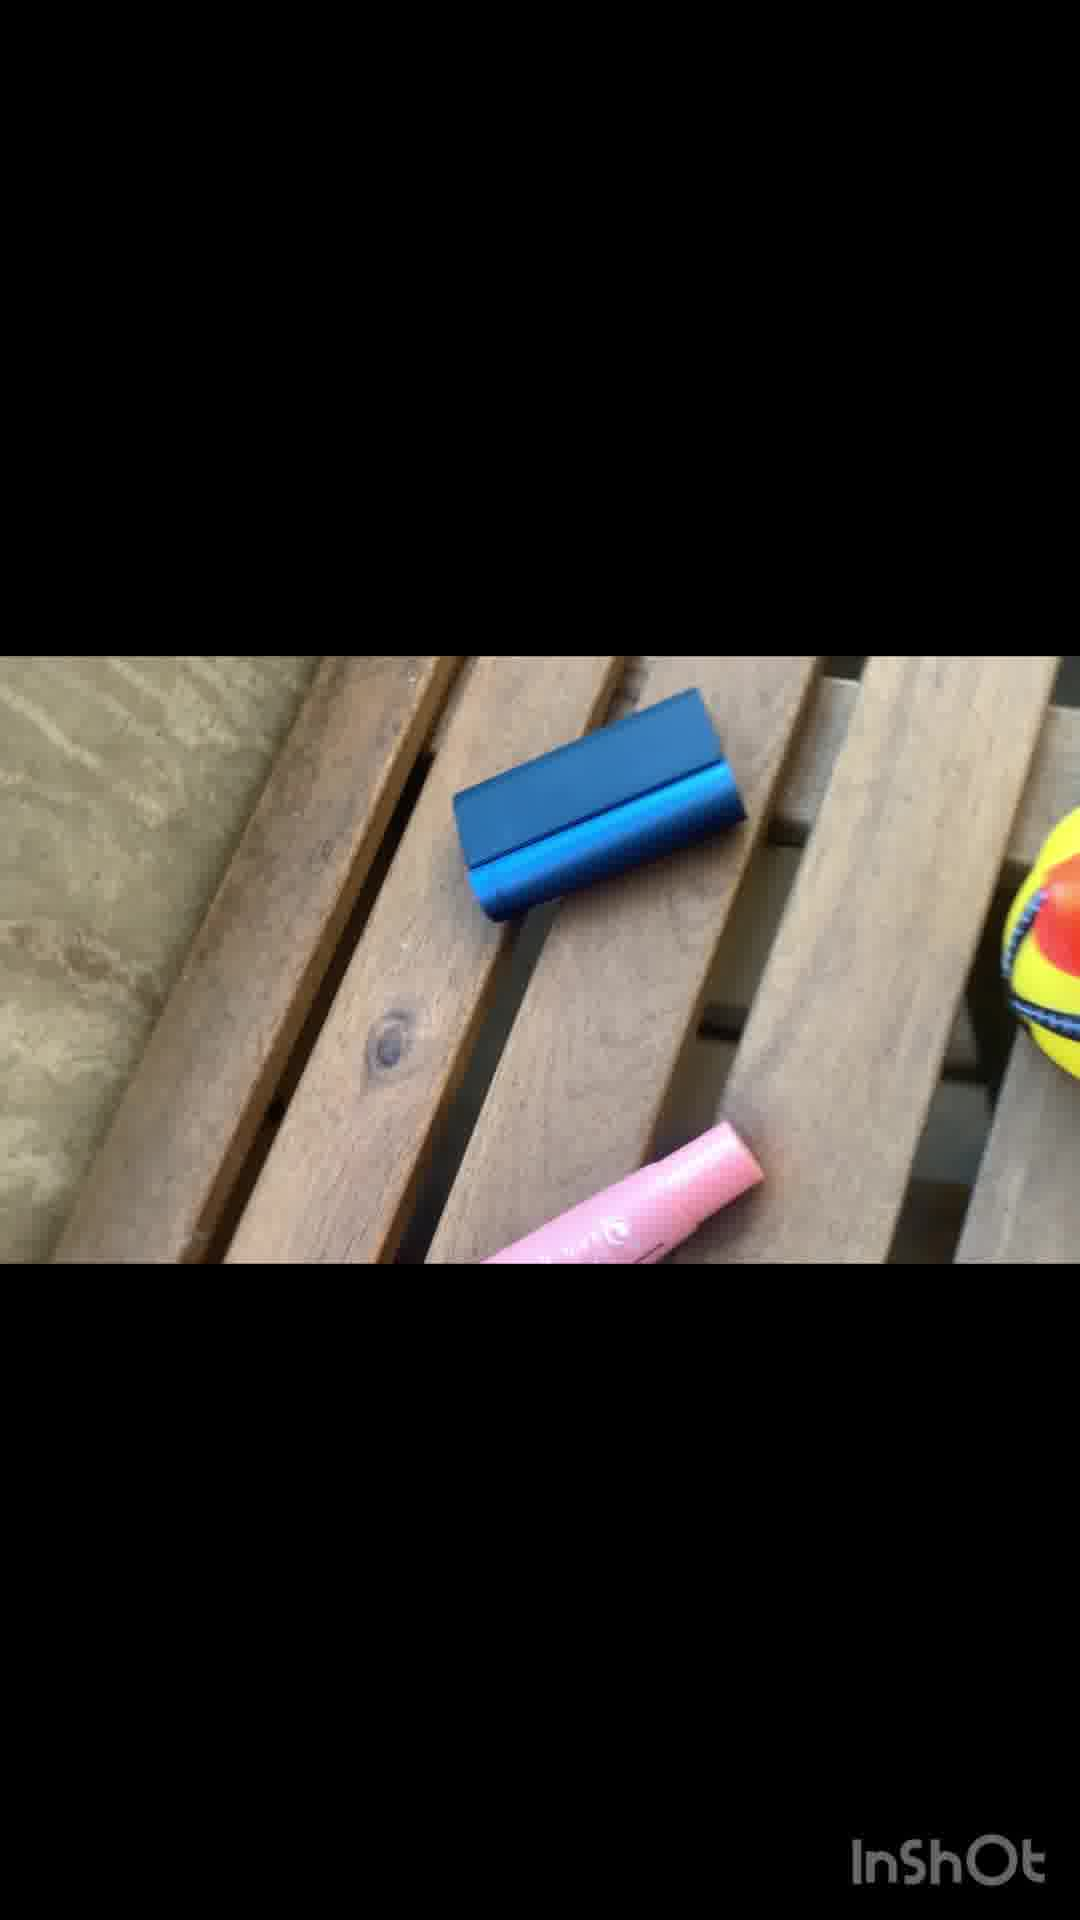duck: (998, 811, 1080, 1095)
glo: (451, 687, 754, 909)
lip balm: (448, 1118, 781, 1267)
